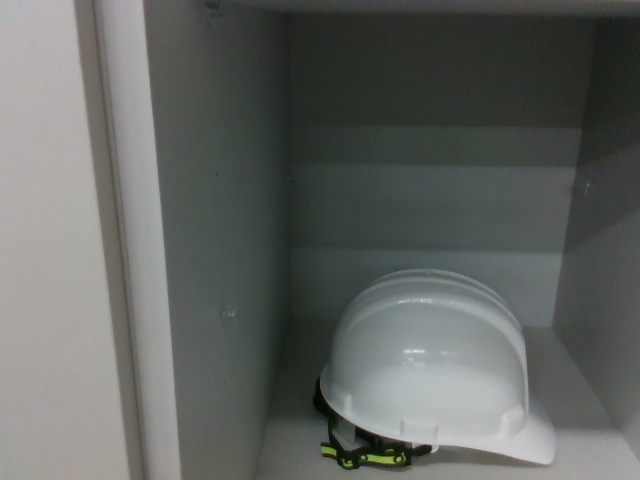helmet: (317, 264, 557, 474)
